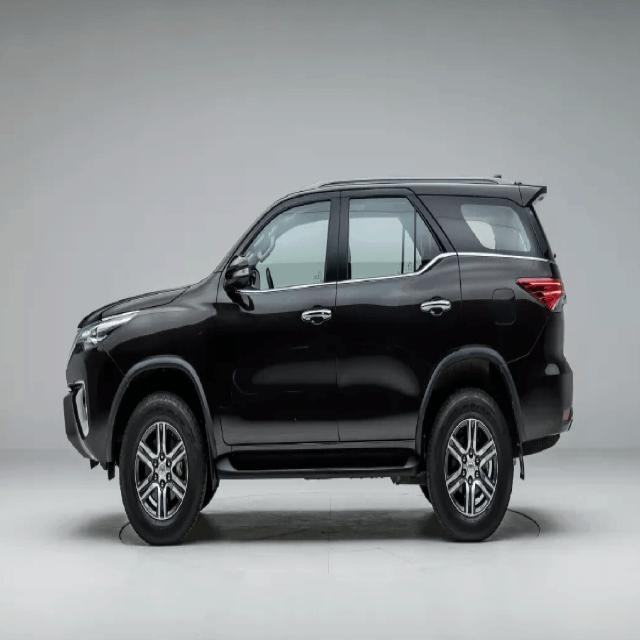light_vehicle: (63, 176, 574, 548)
